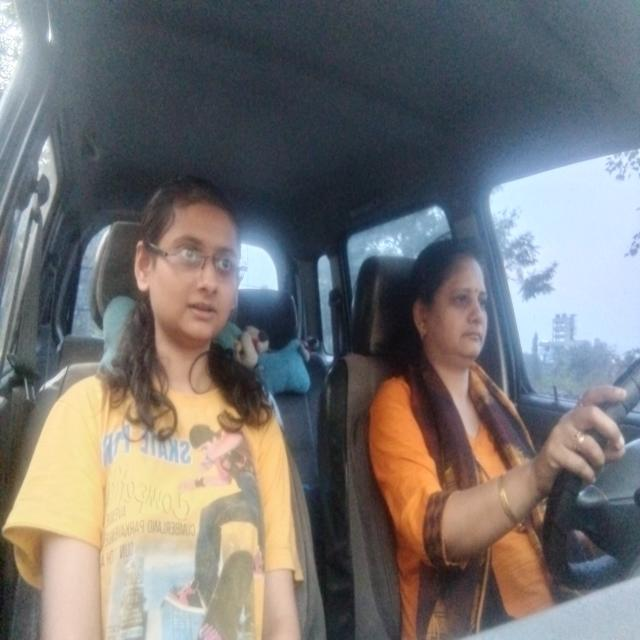person: (131, 171, 252, 356), (410, 230, 495, 370)
